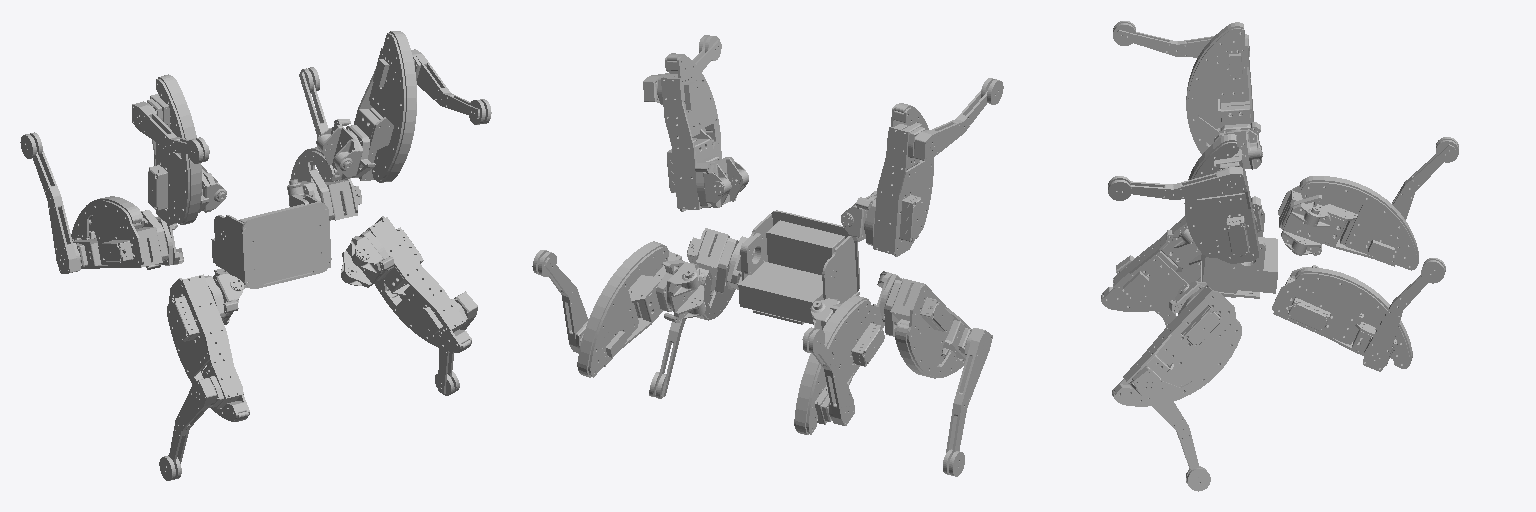
--- Facts derived from the render (not from the file) ---
3 views of the same robot in one strip: view 1: azimuth 30°, elevation 25°; view 2: azimuth 150°, elevation 25°; view 3: azimuth 270°, elevation 25° (orthographic).
Robot: warp_wraith_2 — 20 links, 19 joints (18 revolute, 1 continuous); root link base_link; default pose: all joints at 0.
Links seen in each view (by area): view 1: link_c, link_f1, link_a1, link_d1, link_b1, link_c1, link_e1, link_b2, link_a2, link_f2, link_c2, link_f0 (+6 smaller); view 2: link_c, link_e1, link_f1, link_c1, link_a1, link_b1, link_d1, link_a2, link_c2, link_b2, link_e2, link_e0 (+5 smaller); view 3: link_d1, link_e1, link_b1, link_c1, link_f1, link_a1, link_c, link_f2, link_d2, link_e2, link_b0, link_c2 (+3 smaller).
Boxes of the visible links, bbox=[...] form: link_c: bbox=[211, 194, 331, 288]; link_f1: bbox=[346, 31, 416, 182]; link_a1: bbox=[167, 274, 249, 421]; link_d1: bbox=[359, 216, 471, 352]; link_b1: bbox=[71, 196, 168, 268]; link_c1: bbox=[147, 74, 208, 225]; link_e1: bbox=[289, 147, 361, 220]; link_b2: bbox=[20, 132, 80, 273]; link_a2: bbox=[159, 378, 217, 480]; link_f2: bbox=[411, 49, 491, 124]; link_c2: bbox=[132, 101, 209, 163]; link_f0: bbox=[316, 119, 362, 179]; link_c: bbox=[738, 210, 859, 324]; link_e1: bbox=[577, 241, 687, 377]; link_f1: bbox=[657, 53, 721, 211]; link_c1: bbox=[864, 103, 933, 256]; link_a1: bbox=[884, 278, 971, 378]; link_b1: bbox=[794, 296, 884, 434]; link_d1: bbox=[687, 228, 738, 320]; link_a2: bbox=[943, 328, 992, 476]; link_c2: bbox=[913, 78, 1003, 160]; link_b2: bbox=[802, 327, 854, 425]; link_e2: bbox=[532, 250, 588, 353]; link_e0: bbox=[664, 262, 705, 322]; link_d1: bbox=[1112, 285, 1241, 406]; link_e1: bbox=[1272, 267, 1412, 368]; link_b1: bbox=[1278, 176, 1418, 270]; link_c1: bbox=[1186, 22, 1253, 153]; link_f1: bbox=[1184, 134, 1259, 263]; link_a1: bbox=[1101, 216, 1200, 311]; link_c: bbox=[1201, 209, 1277, 298]; link_f2: bbox=[1108, 167, 1246, 200]; link_d2: bbox=[1132, 367, 1210, 491]; link_e2: bbox=[1363, 258, 1445, 371]; link_b0: bbox=[1281, 202, 1330, 255]; link_c2: bbox=[1113, 21, 1249, 57].
Bounding box of the posed robot: 0.5558 × 0.6064 × 0.6655 m (x, y, z).
Meshes: 20 distinct files referenced, 19 mesh visuals loaded (19 binary STL); not drawn: 1 (reference not matched to a file when rendering).

URDF robot description (warp_wraith_2):
<?xml version="1.0" encoding="utf-8"?>
<!-- This URDF was automatically created by SolidWorks to URDF Exporter! Originally created by Stephen Brawner ([email redacted]) 
     Commit Version: 1.6.0-4-g7f85cfe  Build Version: 1.6.7995.38578
     For more information, please see http://wiki.ros.org/sw_urdf_exporter -->
<robot
  name="warp_wraith_2">
  <link
    name="base_link">
    <inertial>
      <origin
        xyz="0.0296311365934824 -0.0359804992514762 0.220662844298532"
        rpy="0 0 0" />
      <mass
        value="1.50189939232014" />
      <inertia
        ixx="0.00622450272329675"
        ixy="1.74947630049081E-09"
        ixz="-2.10701359777179E-07"
        iyy="0.00323294859115307"
        iyz="-3.7596738649884E-05"
        izz="0.00344502046709939" />
    </inertial>
    <visual>
      <origin
        xyz="0 0 0"
        rpy="0 0 0" />
      <geometry>
        <mesh
          filename="package://warp_wraith_2/meshes/base_link.STL" />
      </geometry>
      <material
        name="">
        <color
          rgba="0.752941176470588 0.752941176470588 0.752941176470588 1" />
      </material>
    </visual>
    <collision>
      <origin
        xyz="0 0 0"
        rpy="0 0 0" />
      <geometry>
        <mesh
          filename="package://warp_wraith_2/meshes/base_link.STL" />
      </geometry>
    </collision>
  </link>
  <link
    name="link_a0">
    <inertial>
      <origin
        xyz="0.0851554150323779 -0.000985644105346323 0.0156474010989862"
        rpy="0 0 0" />
      <mass
        value="0.0945275281675611" />
      <inertia
        ixx="2.68108619050537E-05"
        ixy="6.16844655608466E-07"
        ixz="2.79426647656862E-08"
        iyy="2.67601703362095E-05"
        iyz="6.544775934823E-14"
        izz="4.81696474158725E-05" />
    </inertial>
    <visual>
      <origin
        xyz="0 0 0"
        rpy="0 0 0" />
      <geometry>
        <mesh
          filename="package://warp_wraith_2/meshes/link_a0.STL" />
      </geometry>
      <material
        name="">
        <color
          rgba="0.752941176470588 0.752941176470588 0.752941176470588 1" />
      </material>
    </visual>
    <collision>
      <origin
        xyz="0 0 0"
        rpy="0 0 0" />
      <geometry>
        <mesh
          filename="package://warp_wraith_2/meshes/link_a0.STL" />
      </geometry>
    </collision>
  </link>
  <joint
    name="joint_a0"
    type="revolute">
    <origin
      xyz="-0.104027277448243 -0.0674801592553697 0.0850434044805583"
      rpy="1.58073140775485 -0.897008194175245 -1.57079632679487" />
    <parent
      link="base_link" />
    <child
      link="link_a0" />
    <axis
      xyz="1 0 0" />
    <limit
      lower="-2.7925"
      upper="2.7925"
      effort="0"
      velocity="0" />
  </joint>
  <link
    name="link_a1">
    <inertial>
      <origin
        xyz="-0.0641801217502795 0.0100514965462183 0.0454735508748932"
        rpy="0 0 0" />
      <mass
        value="0.562440066950647" />
      <inertia
        ixx="0.000191507810151581"
        ixy="-0.000103782743476049"
        ixz="9.09682607776654E-06"
        iyy="0.000928787940838491"
        iyz="9.64583367844016E-08"
        izz="0.00107987891209593" />
    </inertial>
    <visual>
      <origin
        xyz="0 0 0"
        rpy="0 0 0" />
      <geometry>
        <mesh
          filename="package://warp_wraith_2/meshes/link_a1.STL" />
      </geometry>
      <material
        name="">
        <color
          rgba="0.752941176470588 0.752941176470588 0.752941176470588 1" />
      </material>
    </visual>
    <collision>
      <origin
        xyz="0 0 0"
        rpy="0 0 0" />
      <geometry>
        <mesh
          filename="package://warp_wraith_2/meshes/link_a1.STL" />
      </geometry>
    </collision>
  </link>
  <joint
    name="joint_a1"
    type="revolute">
    <origin
      xyz="0.0842402878027697 0 0.0207128411733796"
      rpy="0 0 1.46829224125804" />
    <parent
      link="link_a0" />
    <child
      link="link_a1" />
    <axis
      xyz="0 0 1" />
    <limit
      lower="-2.7925"
      upper="2.7925"
      effort="0"
      velocity="0" />
  </joint>
  <link
    name="link_a2">
    <inertial>
      <origin
        xyz="-0.0621869127524817 -0.00552705431792738 0.0205147264394417"
        rpy="0 0 0" />
      <mass
        value="0.0685863416505232" />
      <inertia
        ixx="1.06834942290554E-05"
        ixy="-2.43901507191657E-05"
        ixz="-1.1569259067077E-16"
        iyy="0.000187721407972582"
        iyz="8.44839449558267E-16"
        izz="0.000197984783387763" />
    </inertial>
    <visual>
      <origin
        xyz="0 0 0"
        rpy="0 0 0" />
      <geometry>
        <mesh
          filename="package://warp_wraith_2/meshes/link_a2.STL" />
      </geometry>
      <material
        name="">
        <color
          rgba="0.752941176470588 0.752941176470588 0.752941176470588 1" />
      </material>
    </visual>
    <collision>
      <origin
        xyz="0 0 0"
        rpy="0 0 0" />
      <geometry>
        <mesh
          filename="package://warp_wraith_2/meshes/link_a2.STL" />
      </geometry>
    </collision>
  </link>
  <joint
    name="joint_a2"
    type="revolute">
    <origin
      xyz="-0.149843510036304 -0.00685000000000027 0.0747954230934475"
      rpy="0 0 -1.47118068128164" />
    <parent
      link="link_a1" />
    <child
      link="link_a2" />
    <axis
      xyz="0 0 1" />
    <limit
      lower="-2.7925"
      upper="2.7925"
      effort="0"
      velocity="0" />
  </joint>
  <link
    name="link_b0">
    <inertial>
      <origin
        xyz="-0.0321885997256861 -0.000985644081265447 0.015647401904695"
        rpy="0 0 0" />
      <mass
        value="0.0945275302953737" />
      <inertia
        ixx="2.68108670729358E-05"
        ixy="6.16844679723015E-07"
        ixz="2.7942675354054E-08"
        iyy="2.67601703037538E-05"
        iyz="3.56011319484595E-14"
        izz="4.81696512998512E-05" />
    </inertial>
    <visual>
      <origin
        xyz="0 0 0"
        rpy="0 0 0" />
      <geometry>
        <mesh
          filename="package://warp_wraith_2/meshes/link_b0.STL" />
      </geometry>
      <material
        name="">
        <color
          rgba="0.752941176470588 0.752941176470588 0.752941176470588 1" />
      </material>
    </visual>
    <collision>
      <origin
        xyz="0 0 0"
        rpy="0 0 0" />
      <geometry>
        <mesh
          filename="package://warp_wraith_2/meshes/link_b0.STL" />
      </geometry>
    </collision>
  </link>
  <joint
    name="joint_b0"
    type="revolute">
    <origin
      xyz="-0.104027277448242 0.0509098811166782 0.147749009502869"
      rpy="1.57197600052135 1.19738690821815 -1.57079632679489" />
    <parent
      link="base_link" />
    <child
      link="link_b0" />
    <axis
      xyz="1 0 0" />
    <limit
      lower="-2.7925"
      upper="2.7925"
      effort="0"
      velocity="0" />
  </joint>
  <link
    name="link_b1">
    <inertial>
      <origin
        xyz="-0.0641801231705247 0.0100514968993663 0.0447565752889498"
        rpy="0 0 0" />
      <mass
        value="0.562440056806847" />
      <inertia
        ixx="0.000191507810639002"
        ixy="-0.000103782745336979"
        ixz="9.09682511695694E-06"
        iyy="0.000928787936115065"
        iyz="9.64586621746657E-08"
        izz="0.00107987890748841" />
    </inertial>
    <visual>
      <origin
        xyz="0 0 0"
        rpy="0 0 0" />
      <geometry>
        <mesh
          filename="package://warp_wraith_2/meshes/link_b1.STL" />
      </geometry>
      <material
        name="">
        <color
          rgba="0.752941176470588 0.752941176470588 0.752941176470588 1" />
      </material>
    </visual>
    <collision>
      <origin
        xyz="0 0 0"
        rpy="0 0 0" />
      <geometry>
        <mesh
          filename="package://warp_wraith_2/meshes/link_b1.STL" />
      </geometry>
    </collision>
  </link>
  <joint
    name="joint_b1"
    type="revolute">
    <origin
      xyz="-0.0331037270274367 0 0.0214298171890495"
      rpy="0 0 1.58142473730066" />
    <parent
      link="link_b0" />
    <child
      link="link_b1" />
    <axis
      xyz="0 0 1" />
    <limit
      lower="-2.7925"
      upper="2.7925"
      effort="0"
      velocity="0" />
  </joint>
  <link
    name="link_b2">
    <inertial>
      <origin
        xyz="-0.0621869127553146 -0.00552705432822193 0.0204008659699784"
        rpy="0 0 0" />
      <mass
        value="0.0685863416471101" />
      <inertia
        ixx="1.0683494229303E-05"
        ixy="-2.43901507190906E-05"
        ixz="-1.22646284490197E-17"
        iyy="0.000187721407972589"
        iyz="9.7503921322133E-17"
        izz="0.000197984783387152" />
    </inertial>
    <visual>
      <origin
        xyz="0 0 0"
        rpy="0 0 0" />
      <geometry>
        <mesh
          filename="package://warp_wraith_2/meshes/link_b2.STL" />
      </geometry>
      <material
        name="">
        <color
          rgba="0.752941176470588 0.752941176470588 0.752941176470588 1" />
      </material>
    </visual>
    <collision>
      <origin
        xyz="0 0 0"
        rpy="0 0 0" />
      <geometry>
        <mesh
          filename="package://warp_wraith_2/meshes/link_b2.STL" />
      </geometry>
    </collision>
  </link>
  <joint
    name="joint_b2"
    type="revolute">
    <origin
      xyz="-0.149843510036304 -0.00685000000000036 0.0741923075481606"
      rpy="0 0 -1.55127452538575" />
    <parent
      link="link_b1" />
    <child
      link="link_b2" />
    <axis
      xyz="0 0 1" />
    <limit
      lower="-2.7925"
      upper="2.7925"
      effort="0"
      velocity="0" />
  </joint>
  <link
    name="link_c0">
    <inertial>
      <origin
        xyz="-0.0026450596828149 -0.000985643978436812 0.0156474007490965"
        rpy="0 0 0" />
      <mass
        value="0.0945275341479533" />
      <inertia
        ixx="2.68108658797545E-05"
        ixy="6.16845170873546E-07"
        ixz="2.79426901820078E-08"
        iyy="2.67601704791357E-05"
        iyz="5.47535234883977E-15"
        izz="4.81696515549168E-05" />
    </inertial>
    <visual>
      <origin
        xyz="0 0 0"
        rpy="0 0 0" />
      <geometry>
        <mesh
          filename="package://warp_wraith_2/meshes/link_c0.STL" />
      </geometry>
      <material
        name="">
        <color
          rgba="0.752941176470588 0.752941176470588 0.752941176470588 1" />
      </material>
    </visual>
    <collision>
      <origin
        xyz="0 0 0"
        rpy="0 0 0" />
      <geometry>
        <mesh
          filename="package://warp_wraith_2/meshes/link_c0.STL" />
      </geometry>
    </collision>
  </link>
  <joint
    name="joint_c0"
    type="revolute">
    <origin
      xyz="-0.10402727744823 -0.0489945873239055 0.323762251736388"
      rpy="-1.60923250783394 -0.150189357021345 1.57079632679492" />
    <parent
      link="base_link" />
    <child
      link="link_c0" />
    <axis
      xyz="1 0 0" />
    <limit
      lower="-2.7925"
      upper="2.7925"
      effort="0"
      velocity="0" />
  </joint>
  <link
    name="link_c1">
    <inertial>
      <origin
        xyz="-0.0631717759361851 0.023574141186961 0.0661863921093232"
        rpy="0 0 0" />
      <mass
        value="0.562440062977799" />
      <inertia
        ixx="0.000191507811171085"
        ixy="-0.000103782745725335"
        ixz="9.09682777984586E-06"
        iyy="0.000928787939846355"
        iyz="9.64576530445767E-08"
        izz="0.00107987891160582" />
    </inertial>
    <visual>
      <origin
        xyz="0 0 0"
        rpy="0 0 0" />
      <geometry>
        <mesh
          filename="package://warp_wraith_2/meshes/link_c1.STL" />
      </geometry>
      <material
        name="">
        <color
          rgba="0.752941176470588 0.752941176470588 0.752941176470588 1" />
      </material>
    </visual>
    <collision>
      <origin
        xyz="0 0 0"
        rpy="0 0 0" />
      <geometry>
        <mesh
          filename="package://warp_wraith_2/meshes/link_c1.STL" />
      </geometry>
    </collision>
  </link>
  <joint
    name="joint_c1"
    type="revolute">
    <origin
      xyz="0.01 0 0"
      rpy="0 0 1.64522586966955" />
    <parent
      link="link_c0" />
    <child
      link="link_c1" />
    <axis
      xyz="0 0 1" />
    <limit
      lower="-2.7925"
      upper="2.7925"
      effort="0"
      velocity="0" />
  </joint>
  <link
    name="link_c2">
    <inertial>
      <origin
        xyz="-0.0621869127368714 -0.00552705436414952 0.0246594917039899"
        rpy="0 0 0" />
      <mass
        value="0.0685863416618641" />
      <inertia
        ixx="1.06834942281433E-05"
        ixy="-2.43901507194157E-05"
        ixz="5.0401573207712E-16"
        iyy="0.00018772140797255"
        iyz="-2.57824073357419E-15"
        izz="0.000197984783389714" />
    </inertial>
    <visual>
      <origin
        xyz="0 0 0"
        rpy="0 0 0" />
      <geometry>
        <mesh
          filename="package://warp_wraith_2/meshes/link_c2.STL" />
      </geometry>
      <material
        name="">
        <color
          rgba="0.752941176470588 0.752941176470588 0.752941176470588 1" />
      </material>
    </visual>
    <collision>
      <origin
        xyz="0 0 0"
        rpy="0 0 0" />
      <geometry>
        <mesh
          filename="package://warp_wraith_2/meshes/link_c2.STL" />
      </geometry>
    </collision>
  </link>
  <joint
    name="joint_c2"
    type="revolute">
    <origin
      xyz="-0.14883516311418 0.00667264431966189 0.0913634989992372"
      rpy="0 0 -1.55391611901459" />
    <parent
      link="link_c1" />
    <child
      link="link_c2" />
    <axis
      xyz="0 0 1" />
    <limit
      lower="-2.7925"
      upper="2.7925"
      effort="0"
      velocity="0" />
  </joint>
  <link
    name="link_d0">
    <inertial>
      <origin
        xyz="0.0898656069902324 -0.000985644074502738 -0.0156474019252055"
        rpy="0 0 0" />
      <mass
        value="0.0945275295014819" />
      <inertia
        ixx="2.68108653895771E-05"
        ixy="6.1684803780549E-07"
        ixz="-2.79426616210086E-08"
        iyy="2.67601700704808E-05"
        iyz="1.92440575990147E-13"
        izz="4.81696508861976E-05" />
    </inertial>
    <visual>
      <origin
        xyz="0 0 0"
        rpy="0 0 0" />
      <geometry>
        <mesh
          filename="package://warp_wraith_2/meshes/link_d0.STL" />
      </geometry>
      <material
        name="">
        <color
          rgba="0.752941176470588 0.752941176470588 0.752941176470588 1" />
      </material>
    </visual>
    <collision>
      <origin
        xyz="0 0 0"
        rpy="0 0 0" />
      <geometry>
        <mesh
          filename="package://warp_wraith_2/meshes/link_d0.STL" />
      </geometry>
    </collision>
  </link>
  <joint
    name="joint_d0"
    type="revolute">
    <origin
      xyz="0.128972722551749 -0.0645412314045171 0.0813625604967587"
      rpy="1.83692480476642 -0.897008194175255 -1.57079632679488" />
    <parent
      link="base_link" />
    <child
      link="link_d0" />
    <axis
      xyz="1 0 0" />
    <limit
      lower="-2.7925"
      upper="2.7925"
      effort="0"
      velocity="0" />
  </joint>
  <link
    name="link_d1">
    <inertial>
      <origin
        xyz="-0.0637011361313294 0.0100562502609663 -0.0692913526325608"
        rpy="0 0 0" />
      <mass
        value="0.562612698314197" />
      <inertia
        ixx="0.000191686197213794"
        ixy="-0.000103778222169564"
        ixz="-1.56309527882212E-05"
        iyy="0.000928780546148637"
        iyz="-8.61009925542482E-07"
        izz="0.00107968645804875" />
    </inertial>
    <visual>
      <origin
        xyz="0 0 0"
        rpy="0 0 0" />
      <geometry>
        <mesh
          filename="package://warp_wraith_2/meshes/link_d1.STL" />
      </geometry>
      <material
        name="">
        <color
          rgba="0.752941176470588 0.752941176470588 0.752941176470588 1" />
      </material>
    </visual>
    <collision>
      <origin
        xyz="0 0 0"
        rpy="0 0 0" />
      <geometry>
        <mesh
          filename="package://warp_wraith_2/meshes/link_d1.STL" />
      </geometry>
    </collision>
  </link>
  <joint
    name="joint_d1"
    type="revolute">
    <origin
      xyz="0.0889504798737517 0 0.00263003664879348"
      rpy="0 0.0073549450756267 1.47548058294527" />
    <parent
      link="link_d0" />
    <child
      link="link_d1" />
    <axis
      xyz="0.0073548787645821 0 -0.999972952513396" />
    <limit
      lower="-2.7925"
      upper="2.7925"
      effort="0"
      velocity="0" />
  </joint>
  <link
    name="link_d2">
    <inertial>
      <origin
        xyz="-0.0621869126307545 -0.00552705449810822 -0.0284422731923281"
        rpy="0 0 0" />
      <mass
        value="0.0685863417643418" />
      <inertia
        ixx="1.06834942169983E-05"
        ixy="-2.43901494955539E-05"
        ixz="1.4768561536465E-15"
        iyy="0.000187721407971641"
        iyz="8.71257411919416E-15"
        izz="0.000197984783405094" />
    </inertial>
    <visual>
      <origin
        xyz="0 0 0"
        rpy="0 0 0" />
      <geometry>
        <mesh
          filename="package://warp_wraith_2/meshes/link_d2.STL" />
      </geometry>
      <material
        name="">
        <color
          rgba="0.752941176470588 0.752941176470588 0.752941176470588 1" />
      </material>
    </visual>
    <collision>
      <origin
        xyz="0 0 0"
        rpy="0 0 0" />
      <geometry>
        <mesh
          filename="package://warp_wraith_2/meshes/link_d2.STL" />
      </geometry>
    </collision>
  </link>
  <joint
    name="joint_d2"
    type="revolute">
    <origin
      xyz="-0.149177890483349 -0.00684999999999997 -0.091049011327668"
      rpy="0.00726837582919546 -0.00112514539693943 -1.41721792443627" />
    <parent
      link="link_d1" />
    <child
      link="link_d2" />
    <axis
      xyz="0 0 1" />
    <limit
      lower="-2.7925"
      upper="2.7925"
      effort="0"
      velocity="0" />
  </joint>
  <link
    name="link_e0">
    <inertial>
      <origin
        xyz="-0.032188599818986 -0.000985644030035517 -0.0156474017764181"
        rpy="0 0 0" />
      <mass
        value="0.0945275314949536" />
      <inertia
        ixx="2.6810867107574E-05"
        ixy="6.16848064025741E-07"
        ixz="-2.79426877869017E-08"
        iyy="2.67601701588019E-05"
        iyz="9.99960265076773E-14"
        izz="4.81696518042105E-05" />
    </inertial>
    <visual>
      <origin
        xyz="0 0 0"
        rpy="0 0 0" />
      <geometry>
        <mesh
          filename="package://warp_wraith_2/meshes/link_e0.STL" />
      </geometry>
      <material
        name="">
        <color
          rgba="0.752941176470588 0.752941176470588 0.752941176470588 1" />
      </material>
    </visual>
    <collision>
      <origin
        xyz="0 0 0"
        rpy="0 0 0" />
      <geometry>
        <mesh
          filename="package://warp_wraith_2/meshes/link_e0.STL" />
      </geometry>
    </collision>
  </link>
  <joint
    name="joint_e0"
    type="revolute">
    <origin
      xyz="0.128972722551758 0.05090988111665 0.147749009502955"
      rpy="1.70614431296975 1.19738690821797 -1.57079632679487" />
    <parent
      link="base_link" />
    <child
      link="link_e0" />
    <axis
      xyz="1 0 0" />
    <limit
      lower="-2.7925"
      upper="2.7925"
      effort="0"
      velocity="0" />
  </joint>
  <link
    name="link_e1">
    <inertial>
      <origin
        xyz="-0.0635697726933742 0.0100562505694181 -0.0871516549356823"
        rpy="0 0 0" />
      <mass
        value="0.562612705016016" />
      <inertia
        ixx="0.000191686199169745"
        ixy="-0.000103778219734676"
        ixz="-1.56309555740133E-05"
        iyy="0.000928780551323458"
        iyz="-8.61009676866432E-07"
        izz="0.00107968646410498" />
    </inertial>
    <visual>
      <origin
        xyz="0 0 0"
        rpy="0 0 0" />
      <geometry>
        <mesh
          filename="package://warp_wraith_2/meshes/link_e1.STL" />
      </geometry>
      <material
        name="">
        <color
          rgba="0.752941176470588 0.752941176470588 0.752941176470588 1" />
      </material>
    </visual>
    <collision>
      <origin
        xyz="0 0 0"
        rpy="0 0 0" />
      <geometry>
        <mesh
          filename="package://warp_wraith_2/meshes/link_e1.STL" />
      </geometry>
    </collision>
  </link>
  <joint
    name="joint_e1"
    type="revolute">
    <origin
      xyz="-0.0331037270274255 0 0.0204908224331536"
      rpy="0 0.00735494507562595 1.59472876158132" />
    <parent
      link="link_e0" />
    <child
      link="link_e1" />
    <axis
      xyz="0.00735487876458016 0 -0.999972952513396" />
    <limit
      lower="-2.7925"
      upper="2.7925"
      effort="0"
      velocity="0" />
  </joint>
  <link
    name="link_e2">
    <inertial>
      <origin
        xyz="-0.0621869127130935 -0.00552705444164869 -0.0401920174546539"
        rpy="0 0 0" />
      <mass
        value="0.0685863417032414" />
      <inertia
        ixx="1.06834942237984E-05"
        ixy="-2.43901494968995E-05"
        ixz="1.3064801349875E-15"
        iyy="0.000187721407972307"
        iyz="7.30606235775123E-15"
        izz="0.000197984783395934" />
    </inertial>
    <visual>
      <origin
        xyz="0 0 0"
        rpy="0 0 0" />
      <geometry>
        <mesh
          filename="package://warp_wraith_2/meshes/link_e2.STL" />
      </geometry>
      <material
        name="">
        <color
          rgba="0.752941176470588 0.752941176470588 0.752941176470588 1" />
      </material>
    </visual>
    <collision>
      <origin
        xyz="0 0 0"
        rpy="0 0 0" />
      <geometry>
        <mesh
          filename="package://warp_wraith_2/meshes/link_e2.STL" />
      </geometry>
    </collision>
  </link>
  <joint
    name="joint_e2"
    type="revolute">
    <origin
      xyz="-0.149132944513714 -0.0068499999999998 -0.0971598875769893"
      rpy="0.00735224708523333 0.000199199844672999 -1.59788294855717" />
    <parent
      link="link_e1" />
    <child
      link="link_e2" />
    <axis
      xyz="0 0 1" />
    <limit
      lower="-2.7925"
      upper="2.7925"
      effort="0"
      velocity="0" />
  </joint>
  <link
    name="link_f0">
    <inertial>
      <origin
        xyz="-0.00264505988886438 -0.000985644015985387 -0.0156474016259414"
        rpy="0 0 0" />
      <mass
        value="0.0945275333634757" />
      <inertia
        ixx="2.68108684539212E-05"
        ixy="6.16848310888889E-07"
        ixz="-2.79426631519512E-08"
        iyy="2.67601699411644E-05"
        iyz="1.80487391364968E-13"
        izz="4.81696529681402E-05" />
    </inertial>
    <visual>
      <origin
        xyz="0 0 0"
        rpy="0 0 0" />
      <geometry>
        <mesh
          filename="package://warp_wraith_2/meshes/link_f0.STL" />
      </geometry>
      <material
        name="">
        <color
          rgba="0.752941176470588 0.752941176470588 0.752941176470588 1" />
      </material>
    </visual>
    <collision>
      <origin
        xyz="0 0 0"
        rpy="0 0 0" />
      <geometry>
        <mesh
          filename="package://warp_wraith_2/meshes/link_f0.STL" />
      </geometry>
    </collision>
  </link>
  <joint
    name="joint_f0"
    type="revolute">
    <origin
      xyz="0.128972722552064 -0.0489945873239008 0.323762251736388"
      rpy="-1.37984735461858 -0.150189357021352 1.57079632679493" />
    <parent
      link="base_link" />
    <child
      link="link_f0" />
    <axis
      xyz="1 0 0" />
    <limit
      lower="-2.7925"
      upper="2.7925"
      effort="0"
      velocity="0" />
  </joint>
  <link
    name="link_f1">
    <inertial>
      <origin
        xyz="-0.0639381099820117 0.0100562504609399 -0.0370724769333189"
        rpy="0 0 0" />
      <mass
        value="0.56261269611489" />
      <inertia
        ixx="0.000191686199524715"
        ixy="-0.000103778217829883"
        ixz="-1.56309544621578E-05"
        iyy="0.000928780549032268"
        iyz="-8.61009758026265E-07"
        izz="0.00107968646249954" />
    </inertial>
    <visual>
      <origin
        xyz="0 0 0"
        rpy="0 0 0" />
      <geometry>
        <mesh
          filename="package://warp_wraith_2/meshes/link_f1.STL" />
      </geometry>
      <material
        name="">
        <color
          rgba="0.752941176470588 0.752941176470588 0.752941176470588 1" />
      </material>
    </visual>
    <collision>
      <origin
        xyz="0 0 0"
        rpy="0 0 0" />
      <geometry>
        <mesh
          filename="package://warp_wraith_2/meshes/link_f1.STL" />
      </geometry>
    </collision>
  </link>
  <joint
    name="joint_f1"
    type="revolute">
    <origin
      xyz="-0.00356018705296076 0 -0.0295897104076912"
      rpy="0 0.00735494507562639 1.57553186676683" />
    <parent
      link="link_f0" />
    <child
      link="link_f1" />
    <axis
      xyz="0.00735487876458208 0 -0.999972952513396" />
    <limit
      lower="-2.7925"
      upper="2.7925"
      effort="0"
      velocity="0" />
  </joint>
  <link
    name="link_f2">
    <inertial>
      <origin
        xyz="-0.0621869126831449 -0.00552705445111368 -0.0122606889438816"
        rpy="0 0 0" />
      <mass
        value="0.0685863417275584" />
      <inertia
        ixx="1.06834942216338E-05"
        ixy="-2.43901494963638E-05"
        ixz="1.2200534061471E-15"
        iyy="0.000187721407972068"
        iyz="7.323083881873E-15"
        izz="0.000197984783400055" />
    </inertial>
    <visual>
      <origin
        xyz="0 0 0"
        rpy="0 0 0" />
      <geometry>
        <mesh
          filename="package://warp_wraith_2/meshes/link_f2.STL" />
      </geometry>
      <material
        name="">
        <color
          rgba="0.752941176470588 0.752941176470588 0.752941176470588 1" />
      </material>
    </visual>
    <collision>
      <origin
        xyz="0 0 0"
        rpy="0 0 0" />
      <geometry>
        <mesh
          filename="package://warp_wraith_2/meshes/link_f2.STL" />
      </geometry>
    </collision>
  </link>
  <joint
    name="joint_f2"
    type="revolute">
    <origin
      xyz="-0.14929584922634 -0.00684999999999965 -0.0750112823209621"
      rpy="0.00734380569224807 0.000404645478813979 -1.62583992006583" />
    <parent
      link="link_f1" />
    <child
      link="link_f2" />
    <axis
      xyz="0 0 1" />
    <limit
      lower="-2.7925"
      upper="2.7925"
      effort="0"
      velocity="0" />
  </joint>
  <link
    name="link_c">
    <inertial>
      <origin
        xyz="0.0135932241877464 -0.0189428971458692 -0.0289065363202547"
        rpy="0 0 0" />
      <mass
        value="1.23419712266341" />
      <inertia
        ixx="0.00105643825180223"
        ixy="1.92456445351107E-10"
        ixz="-2.35973808366867E-18"
        iyy="0.00210036026968965"
        iyz="4.16286459326396E-06"
        izz="0.00196838169843624" />
    </inertial>
    <visual>
      <origin
        xyz="0 0 0"
        rpy="0 0 0" />
      <geometry>
        <mesh
          filename="package://warp_wraith_2/meshes/link_c.STL" />
      </geometry>
      <material
        name="">
        <color
          rgba="0.752941176470588 0.752941176470588 0.752941176470588 1" />
      </material>
    </visual>
    <collision>
      <origin
        xyz="0 0 0"
        rpy="0 0 0" />
      <geometry>
        <mesh
          filename="package://warp_wraith_2/meshes/link_c.STL" />
      </geometry>
    </collision>
  </link>
  <joint
    name="joint_c"
    type="continuous">
    <origin
      xyz="0 -0.0365235965231427 0.217558404353926"
      rpy="-0.102085420819214 0 0" />
    <parent
      link="base_link" />
    <child
      link="link_c" />
    <axis
      xyz="1 0 0" />
  </joint>
</robot>
